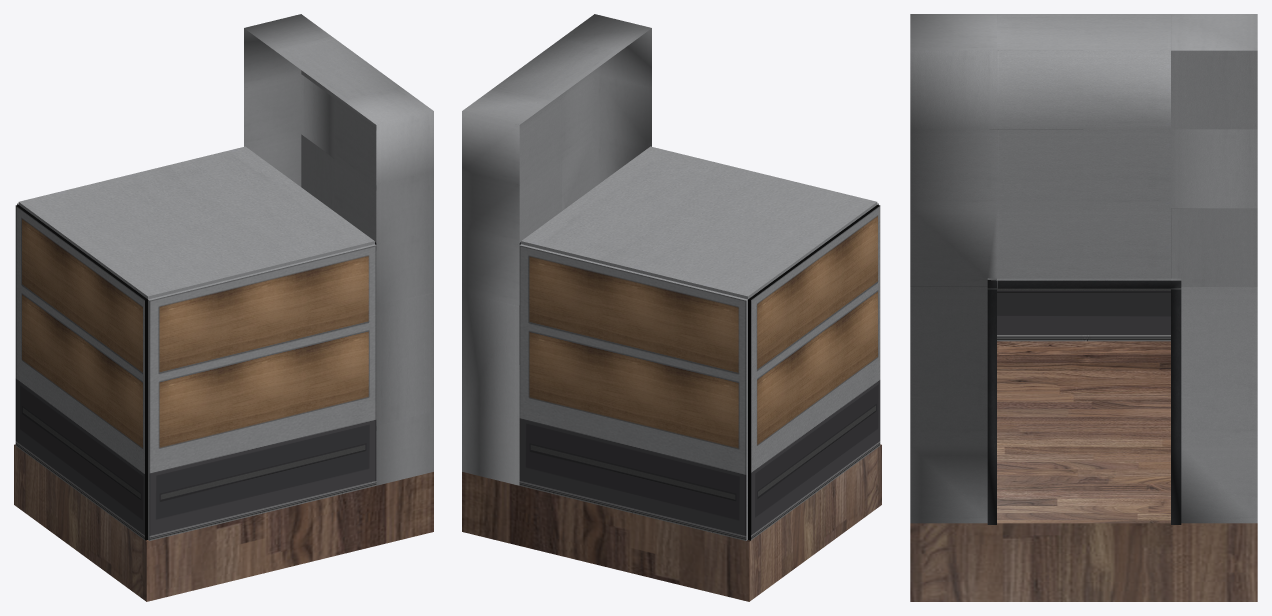
File: MazeGame-Elevator.glb
3 views of the same model, side by side, from view 1: azimuth 30°, elevation 25°; view 2: azimuth 150°, elevation 25°; view 3: azimuth 270°, elevation 25° (orthographic). The views are drawn at different scales.
Visible parts, largest first — view 1: ElevatorWalls, ElevatorFront, ElevatorWalls3, ElevatorCeiling, ElevatorFloor; view 2: ElevatorWalls2, ElevatorFront, ElevatorWalls3, ElevatorCeiling, ElevatorFloor; view 3: ElevatorFront, ElevatorFloor, ElevatorWalls3.
Boxes of the visible parts, x1,y1,x2,y2 form: ElevatorWalls: [148, 244, 376, 540]; ElevatorFront: [244, 14, 433, 485]; ElevatorWalls3: [15, 205, 147, 540]; ElevatorCeiling: [18, 146, 374, 299]; ElevatorFloor: [14, 444, 433, 601]; ElevatorWalls2: [519, 244, 747, 540]; ElevatorFront: [462, 14, 651, 485]; ElevatorWalls3: [748, 205, 880, 540]; ElevatorCeiling: [521, 146, 877, 299]; ElevatorFloor: [462, 444, 881, 601]; ElevatorFront: [910, 14, 1257, 524]; ElevatorFloor: [910, 341, 1257, 601]; ElevatorWalls3: [997, 288, 1170, 341].
Size of the model in its own units: 10.1 by 14 by 8.
Materials: 4 (4 with a texture image).
